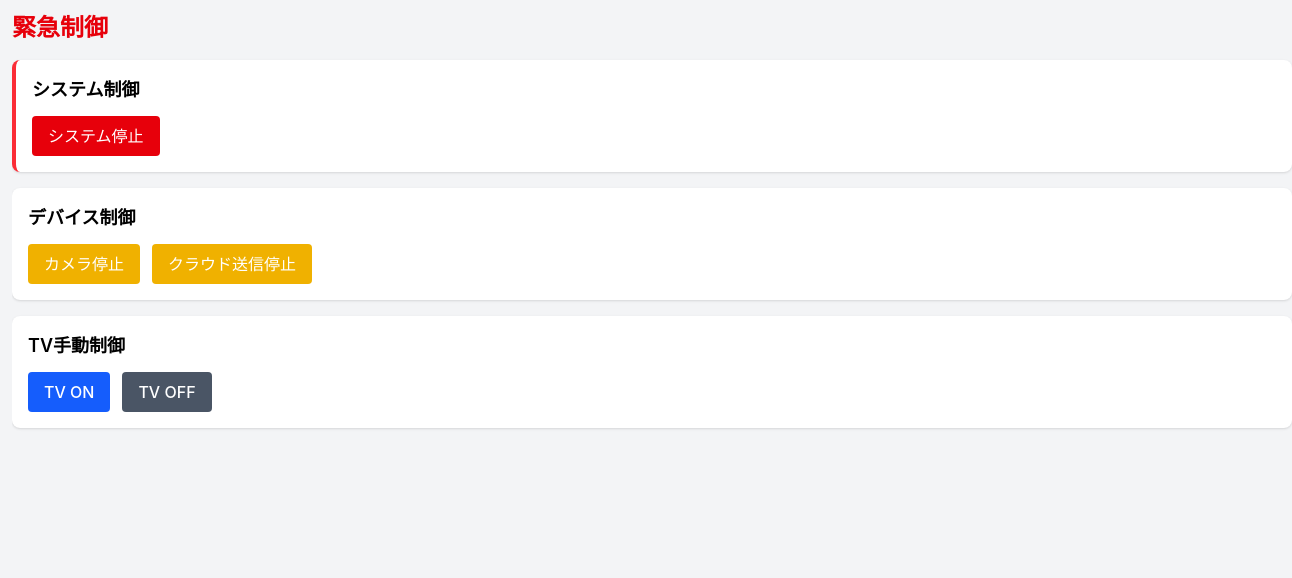
it: EmergencyControl › should log actions
Click the button with test id "tv-on" at (69, 392), box [28, 372, 110, 412]
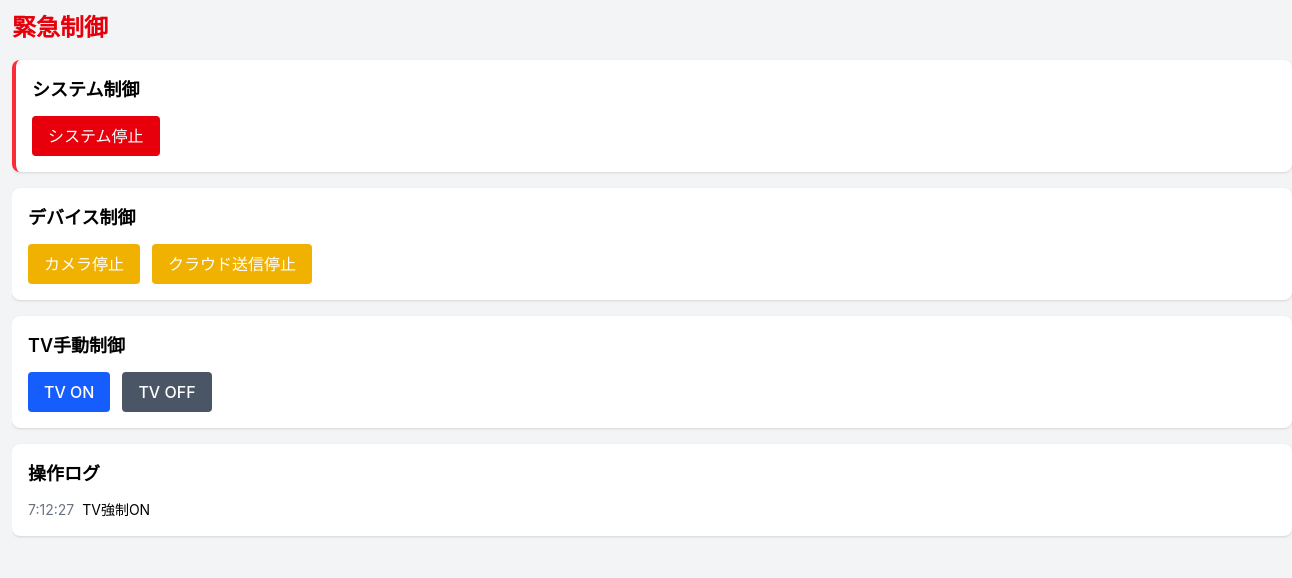
Click the button with test id "tv-off" at (167, 392), box [122, 372, 212, 412]
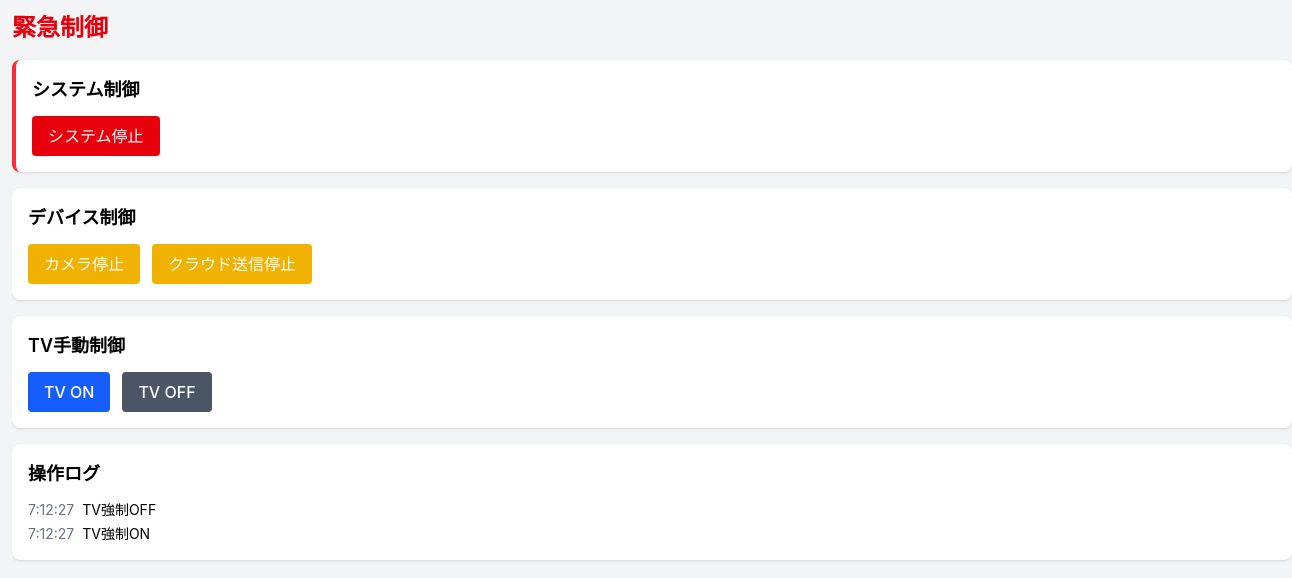
Check: the element with test id "action-log" is shown, box [12, 444, 1291, 560]
Check: the element with test id "action-log" shows "TV強制ON", box [82, 525, 150, 542]
Check: the element with test id "action-log" shows "TV強制OFF", box [82, 501, 156, 518]
